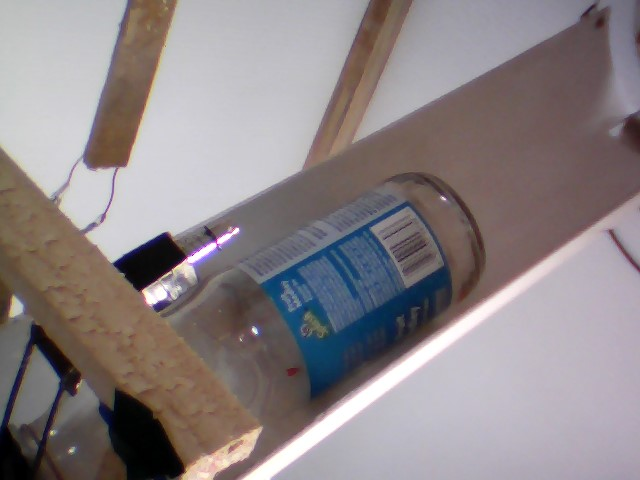vidrio: (188, 165, 491, 429)
